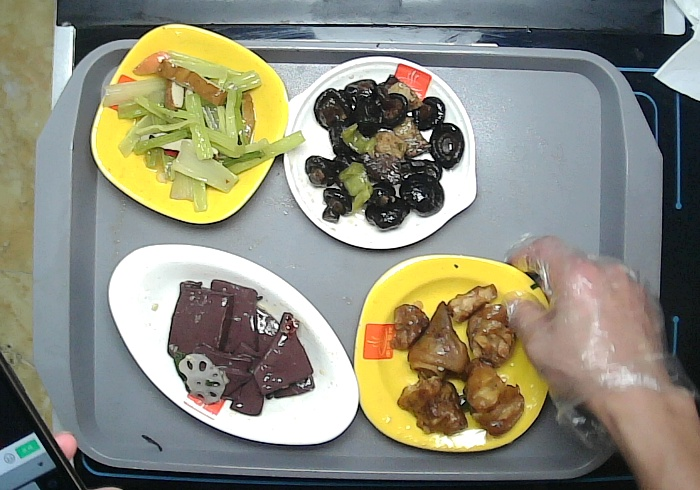SHKJ-Bao_Yu_Pan: (281, 54, 479, 251)
SHKJ-Huang_Se_Cai_Die: (89, 20, 291, 224)
SHKJ-Huang_Se_Si_Fang_Cai_Die: (351, 253, 550, 453)
SHKJ-Yu_Pan: (106, 242, 363, 447)
